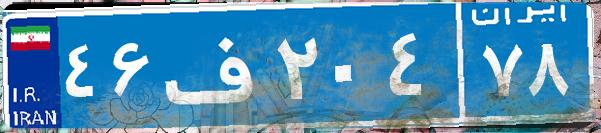0: (330, 28, 385, 110)
2: (273, 28, 330, 110)
4: (385, 28, 445, 110), (57, 26, 110, 107)
6: (110, 28, 158, 105)
7: (475, 38, 525, 113)
8: (525, 38, 570, 115)
ف: (158, 15, 273, 115)
